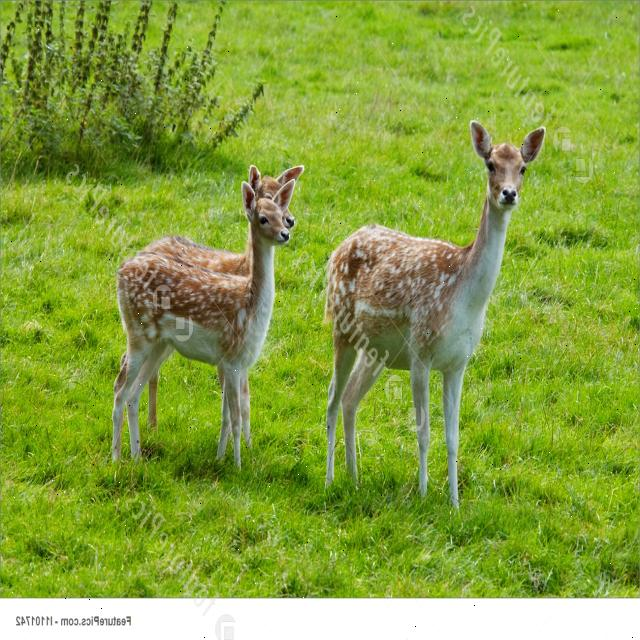deer: (306, 108, 550, 520), (90, 189, 289, 467), (247, 157, 304, 237)
